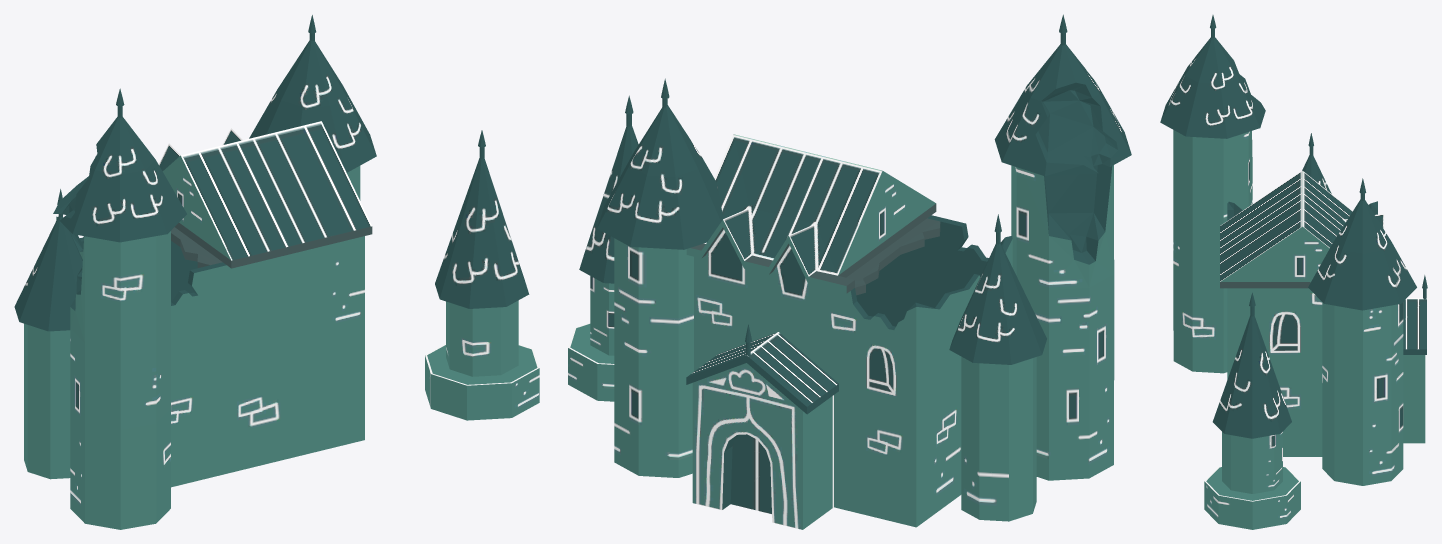
Rendered from GhostlyCastle.glb.
The picture shows the model from 3 angles, left to right: view 1: azimuth 30°, elevation 25°; view 2: azimuth 150°, elevation 25°; view 3: azimuth 270°, elevation 25°; orthographic projection. The views are drawn at different scales.
Visible parts, largest first — view 1: GhostlyCastle; view 2: GhostlyCastle; view 3: GhostlyCastle.
Part boxes in pixels (box(x1,y1,x2,y2)): GhostlyCastle: box(14, 15, 539, 529); GhostlyCastle: box(568, 14, 1131, 529); GhostlyCastle: box(1160, 15, 1427, 529).
Size of the model in its own units: 0.4037 by 0.3286 by 0.2327.
Materials: 1 (1 with a texture image).
